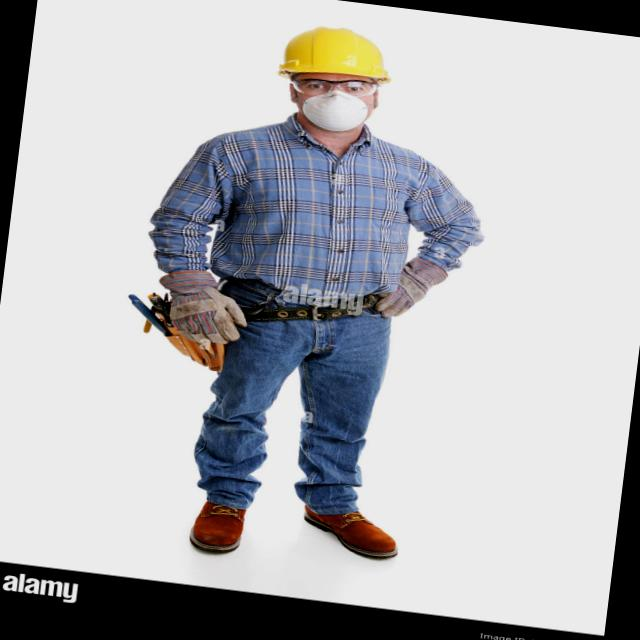goggles: (282, 68, 380, 104)
helmet: (273, 18, 404, 96)
no-vest: (188, 118, 446, 312)
